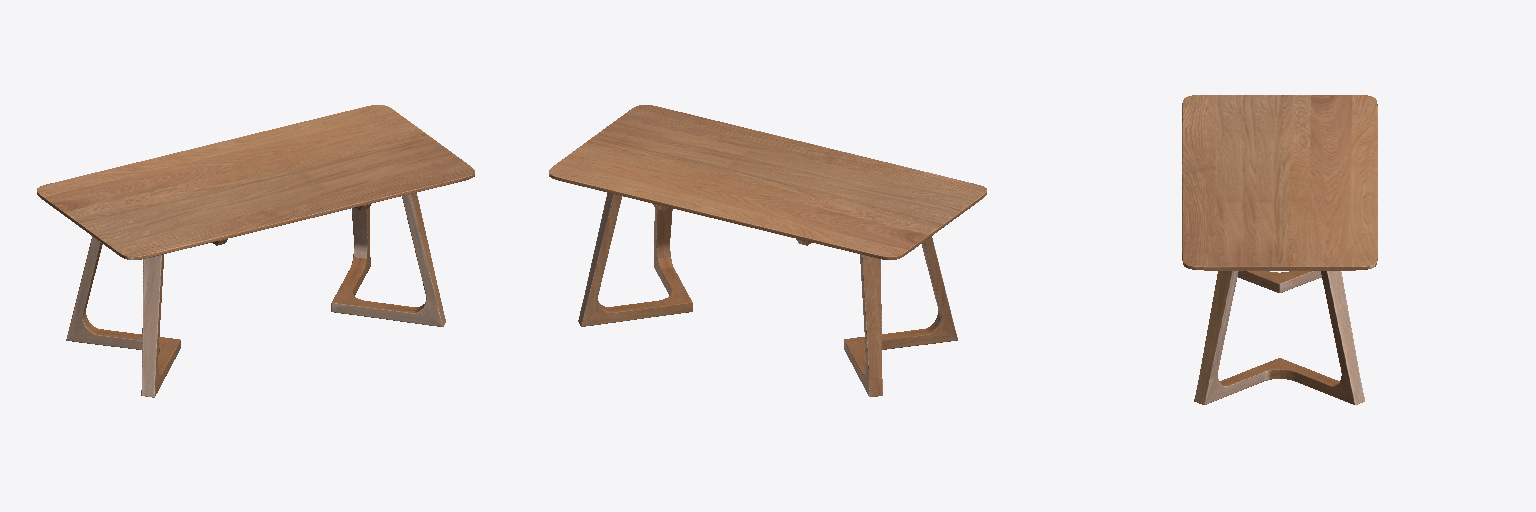
The picture shows the model from 3 angles: view 1: azimuth 30°, elevation 25°; view 2: azimuth 150°, elevation 25°; view 3: azimuth 270°, elevation 25°; orthographic projection.
Visible parts, largest first — view 1: solid; view 2: solid; view 3: solid.
Part boxes in pixels (left/top/right/bottom): solid: left=37, top=105, right=474, bottom=397; solid: left=549, top=105, right=986, bottom=396; solid: left=1182, top=95, right=1377, bottom=404.
Size of the model in its own units: 2 by 0.8161 by 0.9592.
Materials: 1 (1 with a texture image).